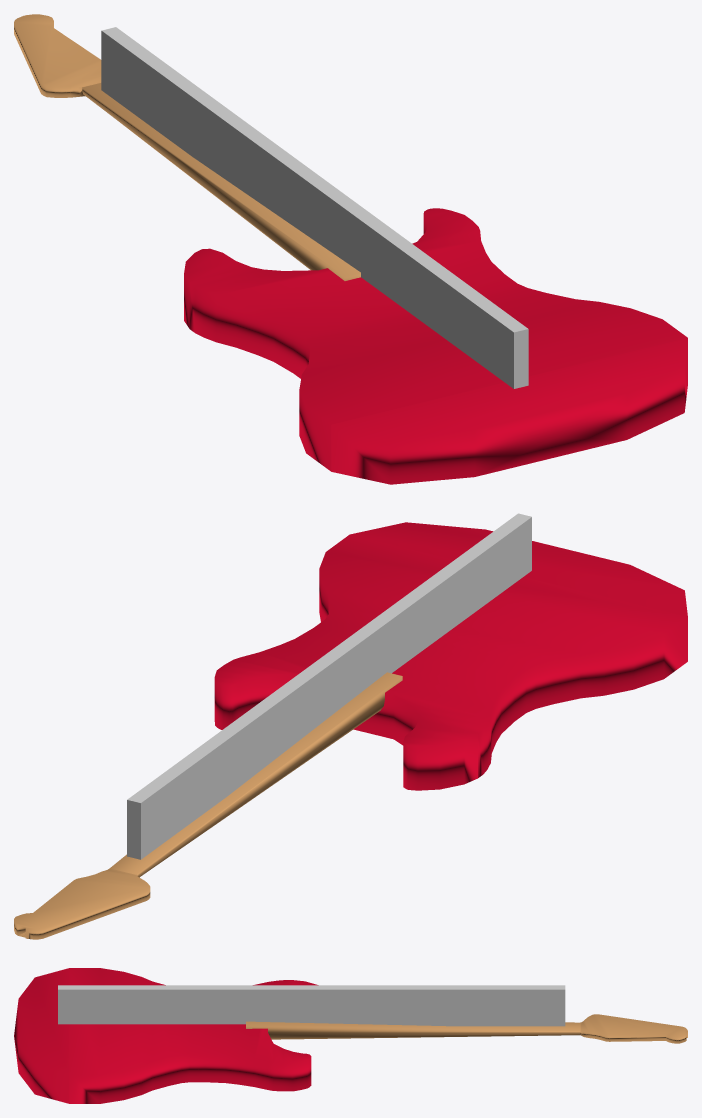
File: guitare.fbx
3 renders of one model, top to bottom at view 1: azimuth 30°, elevation 25°; view 2: azimuth 150°, elevation 25°; view 3: azimuth 270°, elevation 25°, orthographic. The views are drawn at different scales.
Parts seen in each view (by area): view 1: Body, Cube, Manche, Tete; view 2: Body, Cube, Manche, Tete; view 3: Body, Cube, Manche, Tete.
Boxes of the visible parts, x1,y1,x2,y2 form: Body: (184, 208, 687, 484); Cube: (101, 27, 528, 388); Manche: (82, 83, 360, 280); Tete: (14, 14, 101, 97); Body: (214, 522, 687, 790); Cube: (127, 513, 531, 859); Manche: (110, 672, 402, 877); Tete: (14, 868, 150, 939); Body: (14, 968, 318, 1103); Cube: (58, 985, 565, 1026); Manche: (246, 1021, 580, 1039); Tete: (580, 1014, 687, 1043).
Bounding box in the file's own units: 20 × 5.56 × 53.24.
